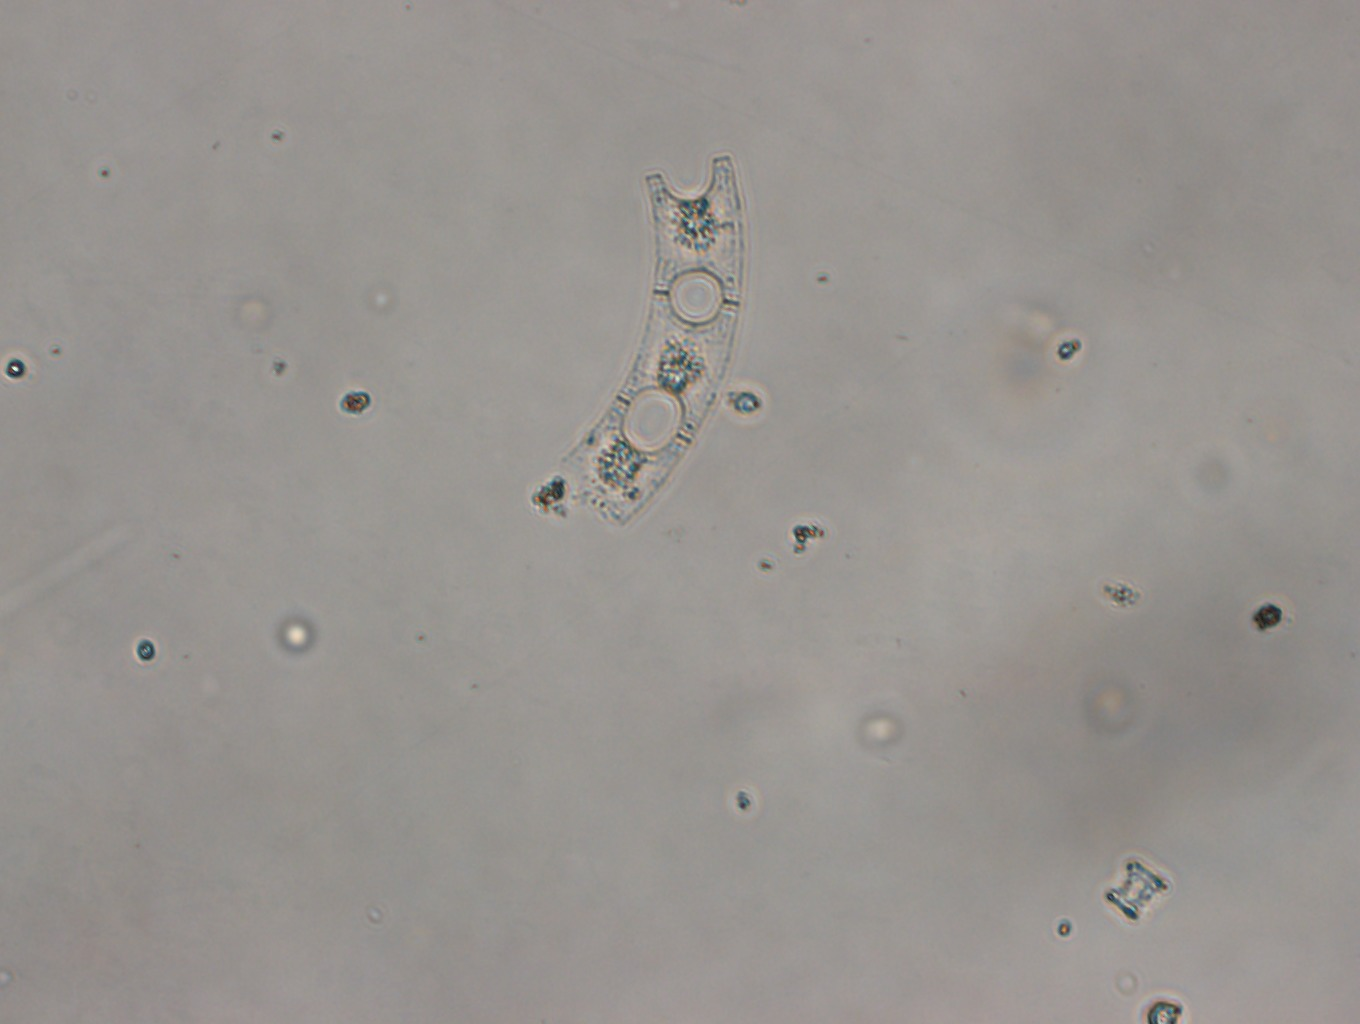eucampia: (571, 153, 757, 528)
